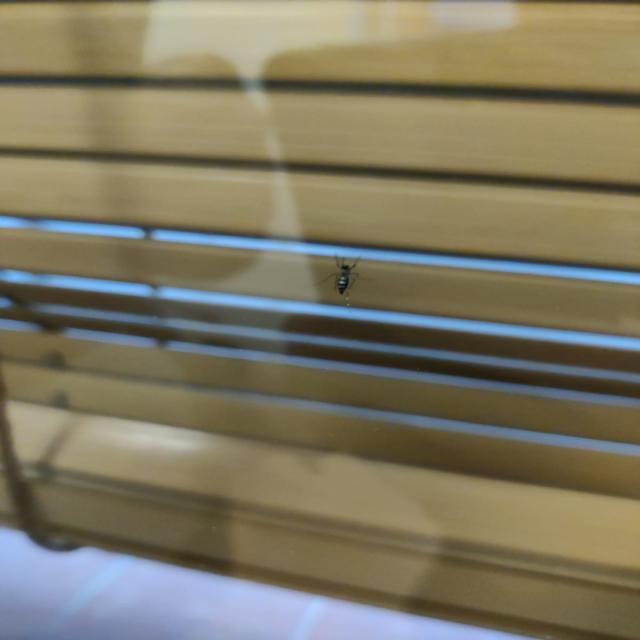albopictus: (310, 250, 371, 304)
